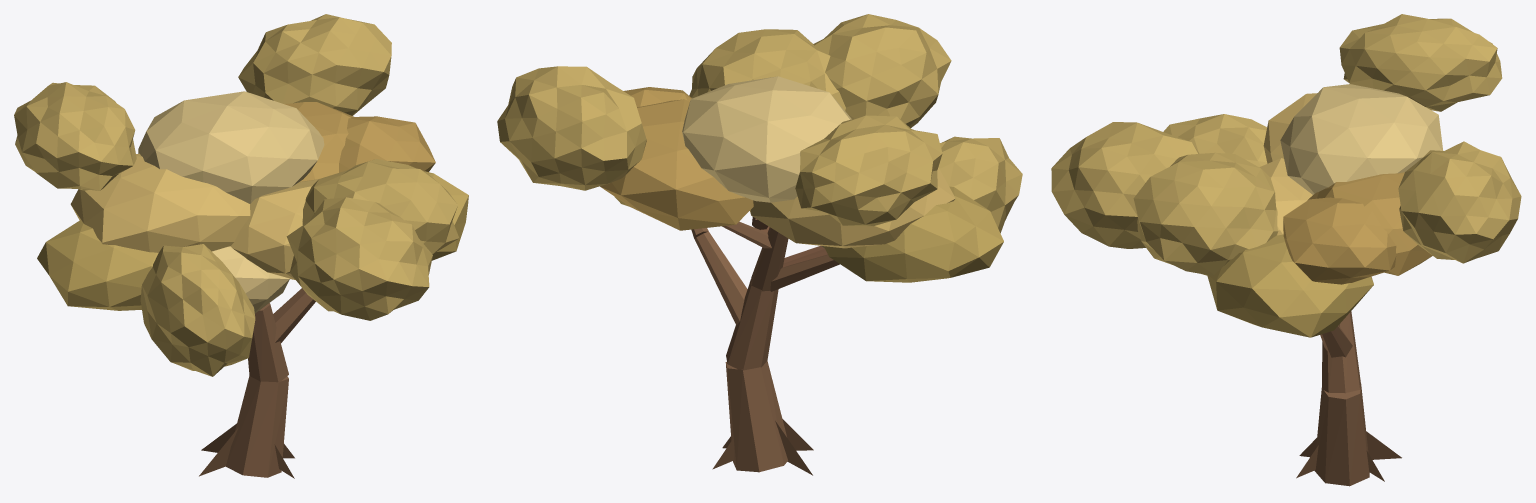
File: goldenTree_1.glb
The picture shows the model from 3 angles, left to right: view 1: azimuth 30°, elevation 25°; view 2: azimuth 150°, elevation 25°; view 3: azimuth 270°, elevation 25°; orthographic projection. The views are drawn at different scales.
Parts seen in each view (by area): view 1: foliage-2, foliage-0, foliage-1, surface; view 2: foliage-0, foliage-2, foliage-1, surface; view 3: foliage-2, foliage-1, foliage-0, surface.
Part boxes in pixels (x1=…): foliage-2: x1=138, y1=91, x2=458, y2=376; foliage-0: x1=37, y1=14, x2=432, y2=320; foliage-1: x1=14, y1=82, x2=468, y2=260; surface: x1=199, y1=288, x2=315, y2=478; foliage-0: x1=497, y1=14, x2=1003, y2=282; foliage-2: x1=682, y1=29, x2=1022, y2=233; foliage-1: x1=614, y1=87, x2=955, y2=248; surface: x1=691, y1=217, x2=839, y2=475; foliage-2: x1=1133, y1=84, x2=1443, y2=275; foliage-1: x1=1207, y1=14, x2=1502, y2=337; foliage-0: x1=1051, y1=122, x2=1521, y2=275; surface: x1=1296, y1=311, x2=1401, y2=486.
Bounding box in the file's own units: 5.81 × 5.37 × 5.96.
